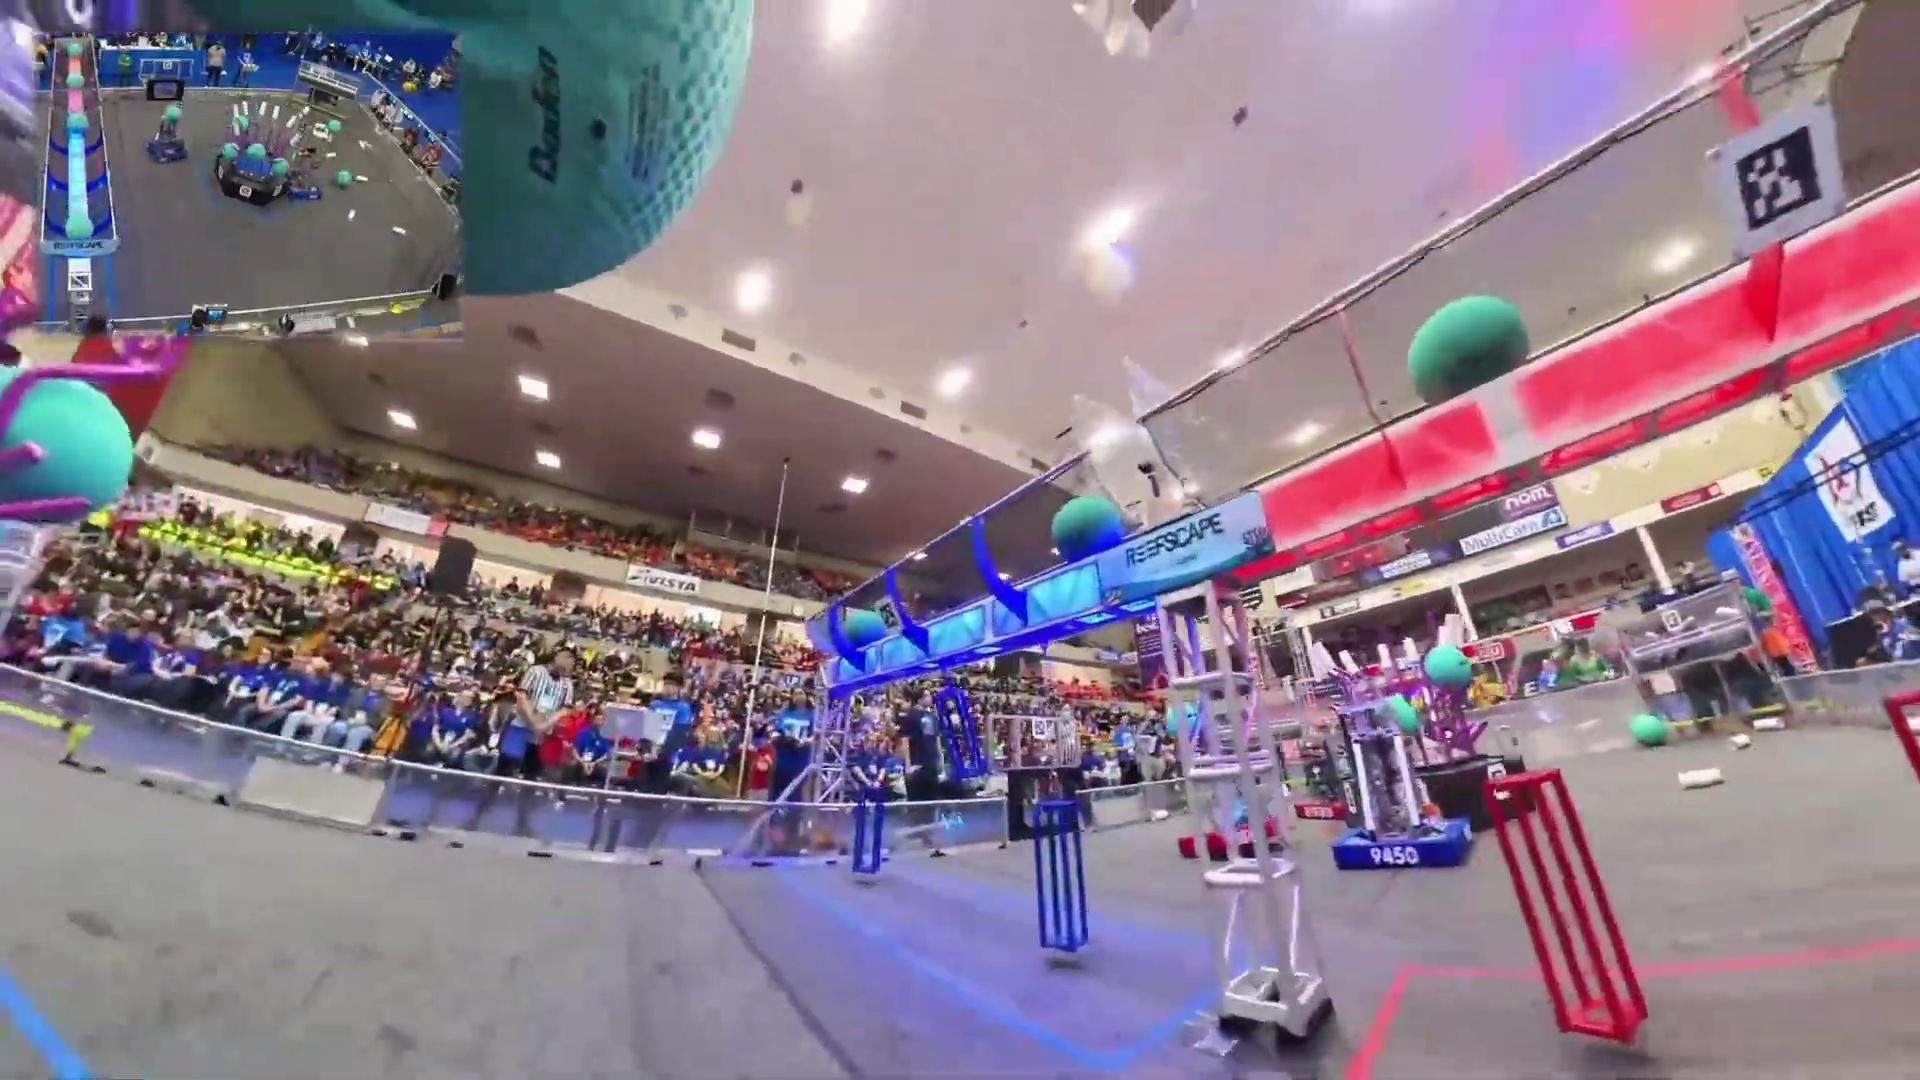robot: (1331, 713, 1473, 873), (1178, 779, 1282, 862), (1296, 720, 1354, 823), (281, 142, 327, 202), (148, 108, 187, 165)
